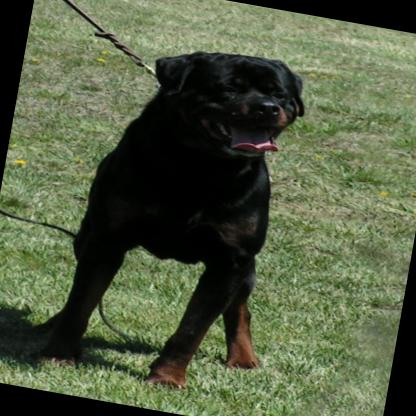Rottweiler: (18, 19, 318, 403)
